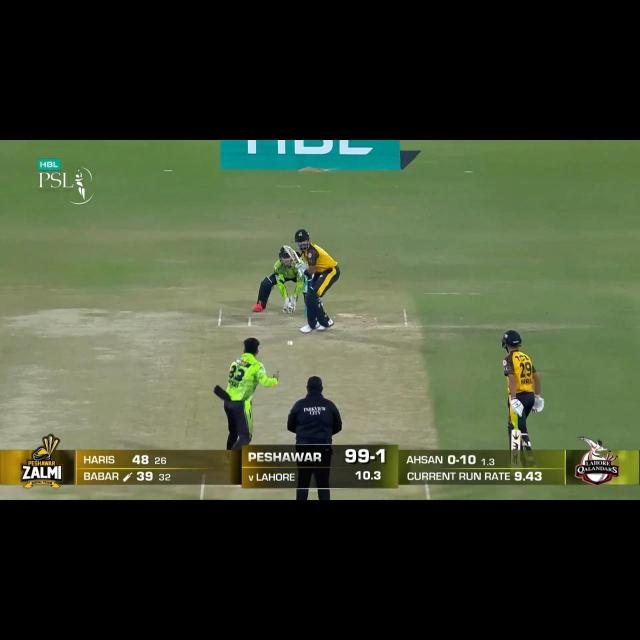bat: (284, 244, 300, 264), (510, 430, 522, 450)
toe: (284, 243, 294, 254)
